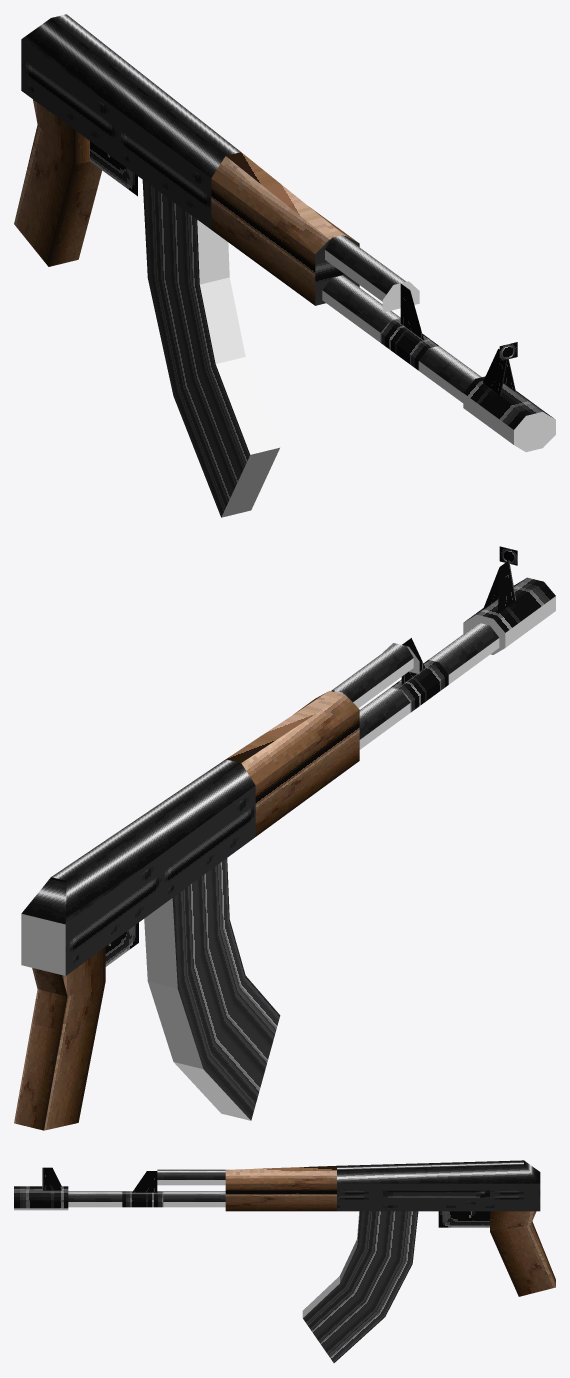
The model's file is gun.glb.
3 renders of one model, top to bottom at view 1: azimuth 30°, elevation 25°; view 2: azimuth 150°, elevation 25°; view 3: azimuth 270°, elevation 25°, orthographic. The views are drawn at different scales.
Visible parts, largest first — view 1: Room0C_primary, Room11_primary, Room0F_secondary, Room0B_secondary, Room17_primary, Room15_primary, Room1A_primary, Room14_secondary, Room0A_secondary, Room10_primary, Room19_secondary; view 2: Room11_primary, Room0C_primary, Room0B_secondary, Room0F_secondary, Room17_primary, Room15_primary, Room1A_primary, Room14_secondary, Room0A_secondary; view 3: Room11_primary, Room0C_primary, Room0F_secondary, Room0B_secondary, Room17_primary, Room15_primary, Room1A_primary, Room0A_secondary, Room19_secondary, Room14_secondary.
Part boxes in pixels (x1=…): Room0C_primary: x1=142, y1=180, x2=280, y2=517; Room11_primary: x1=21, y1=14, x2=240, y2=229; Room0F_secondary: x1=211, y1=152, x2=358, y2=305; Room0B_secondary: x1=14, y1=99, x2=102, y2=266; Room17_primary: x1=322, y1=275, x2=481, y2=402; Room15_primary: x1=463, y1=376, x2=555, y2=452; Room1A_primary: x1=325, y1=235, x2=419, y2=312; Room14_secondary: x1=482, y1=342, x2=517, y2=395; Room0A_secondary: x1=90, y1=141, x2=137, y2=196; Room10_primary: x1=315, y1=236, x2=359, y2=305; Room19_secondary: x1=400, y1=283, x2=423, y2=340; Room11_primary: x1=21, y1=759, x2=255, y2=975; Room0C_primary: x1=144, y1=858, x2=280, y2=1120; Room0B_secondary: x1=14, y1=947, x2=105, y2=1130; Room0F_secondary: x1=226, y1=691, x2=359, y2=836; Room17_primary: x1=359, y1=623, x2=499, y2=749; Room15_primary: x1=463, y1=577, x2=555, y2=654; Room1A_primary: x1=331, y1=643, x2=419, y2=708; Room14_secondary: x1=483, y1=546, x2=517, y2=613; Room0A_secondary: x1=105, y1=922, x2=138, y2=966; Room11_primary: x1=337, y1=1160, x2=540, y2=1211; Room0C_primary: x1=302, y1=1211, x2=418, y2=1362; Room0F_secondary: x1=225, y1=1165, x2=336, y2=1211; Room0B_secondary: x1=490, y1=1211, x2=555, y2=1296; Room17_primary: x1=68, y1=1191, x2=225, y2=1207; Room15_primary: x1=14, y1=1186, x2=68, y2=1210; Room1A_primary: x1=157, y1=1169, x2=225, y2=1185; Room0A_secondary: x1=438, y1=1211, x2=489, y2=1227; Room19_secondary: x1=132, y1=1171, x2=157, y2=1192; Room14_secondary: x1=42, y1=1167, x2=61, y2=1190.
Size of the model in its own units: 37 by 294 by 730.
Materials: 11 (11 with a texture image).
